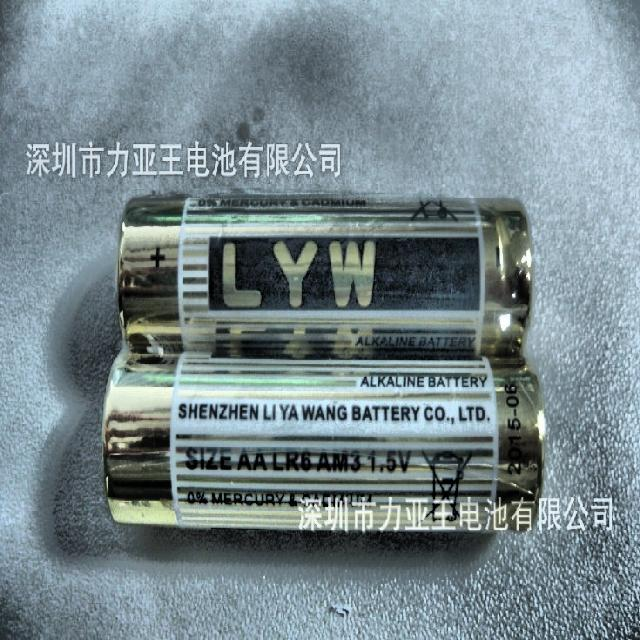Non-Valuable Waste - Batteries: (105, 352, 544, 532), (119, 196, 532, 359)
